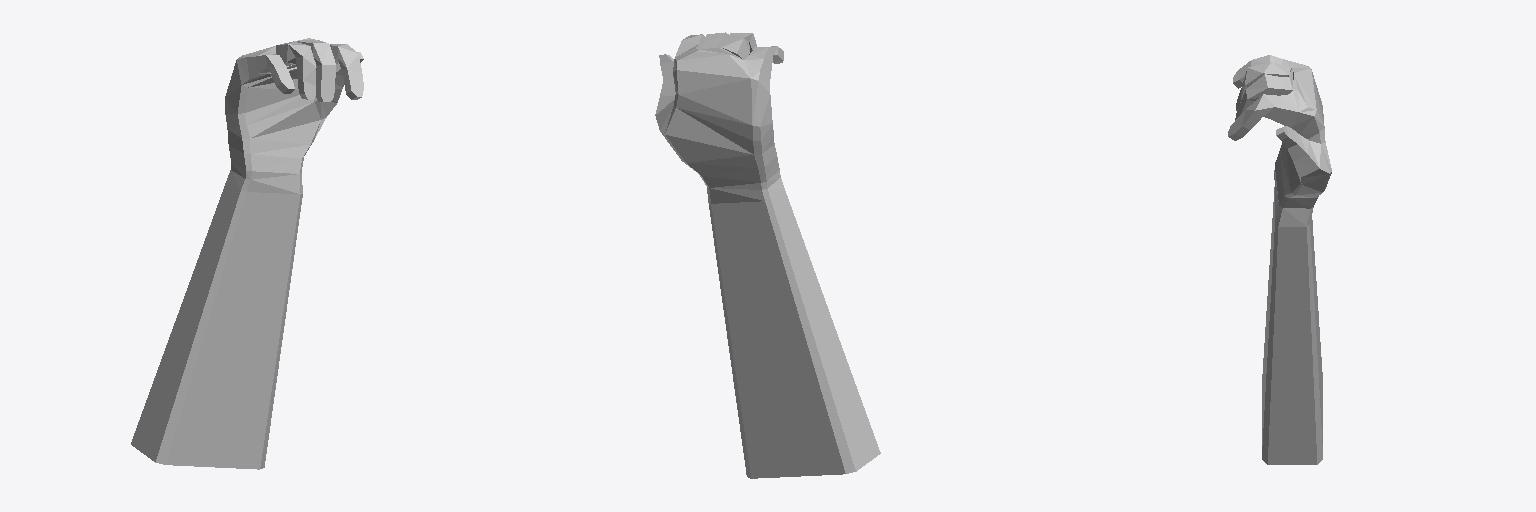
The model's file is hand_anim17.obj.
3 renders of one model, left to right at view 1: azimuth 30°, elevation 25°; view 2: azimuth 150°, elevation 25°; view 3: azimuth 270°, elevation 25°, orthographic.
Parts seen in each view (by area): view 1: Cube.001; view 2: Cube.001; view 3: Cube.001.
Boxes of the visible parts, <box> form: Cube.001: <box>131,38,363,469</box>; Cube.001: <box>655,32,880,478</box>; Cube.001: <box>1228,55,1331,464</box>.
Bounding box in the file's own units: 1.56 × 2.9 × 0.66.